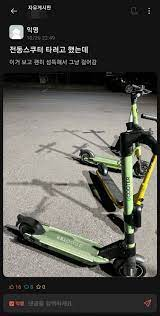kick_neck: (122, 155, 135, 246)
kick_wheel: (13, 215, 40, 246), (79, 149, 95, 163)
